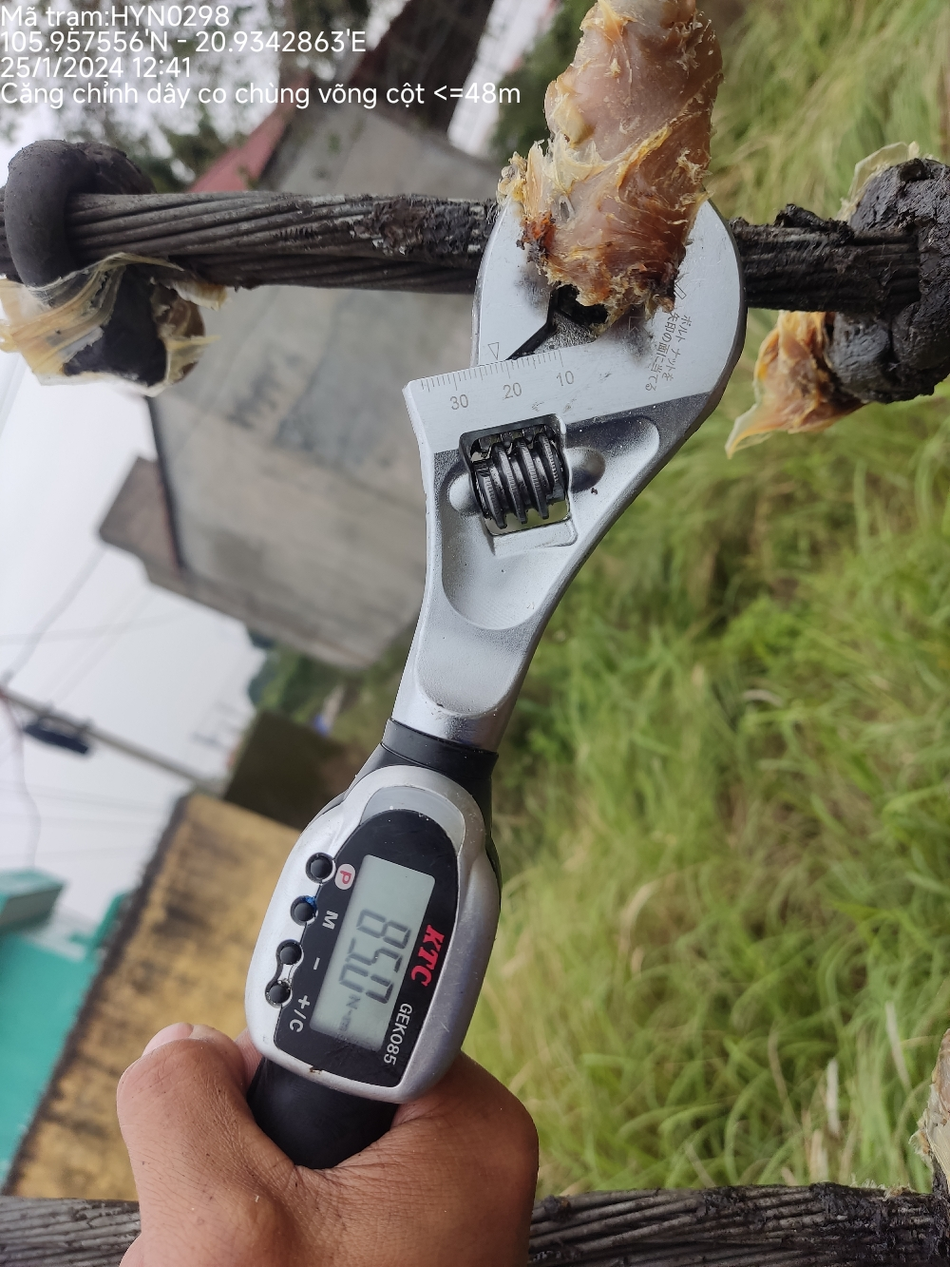lcd_display: (308, 859, 440, 1056)
torque_wrench: (243, 184, 742, 1111)
